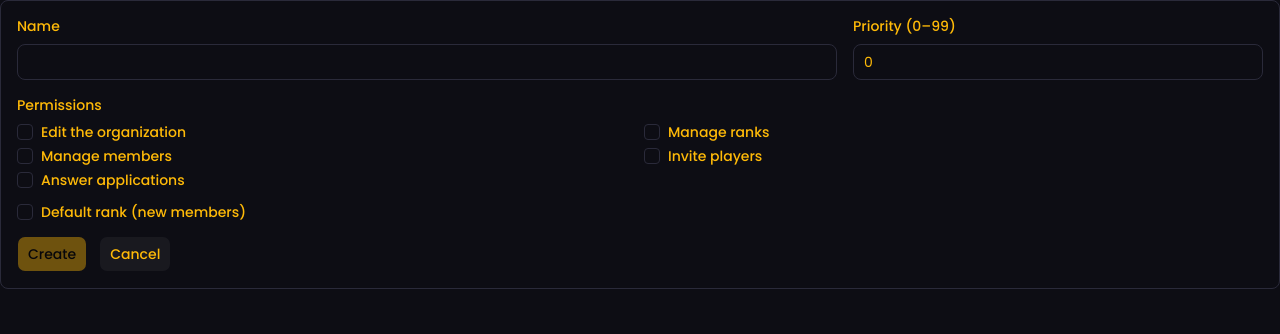
Scenario: RankForm › keeps a priority below the player rank
Type "Boss" into the field labelled "Name". click: (427, 62)
box: x1=17 y1=44 x2=837 y2=80
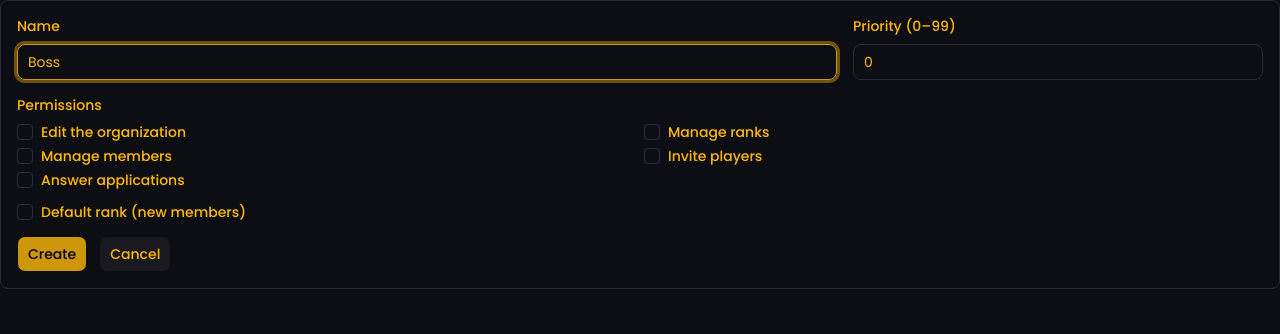
Replace the text in the field labelled "Priority (0–99)" with "60". click: (1058, 62)
box: x1=853 y1=44 x2=1263 y2=80
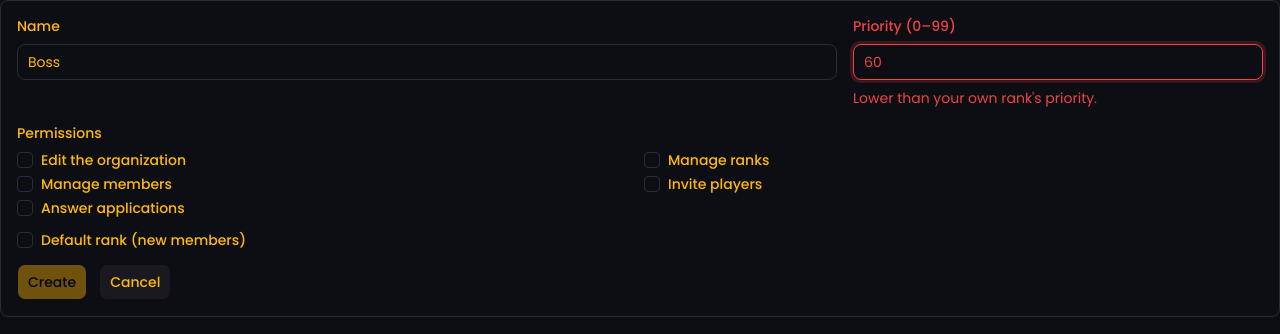
Now the button "Create" is disabled, box x1=17 y1=264 x2=87 y2=300
Now the text "Lower than your own rank's priority." is shown, box x1=853 y1=88 x2=1097 y2=108
